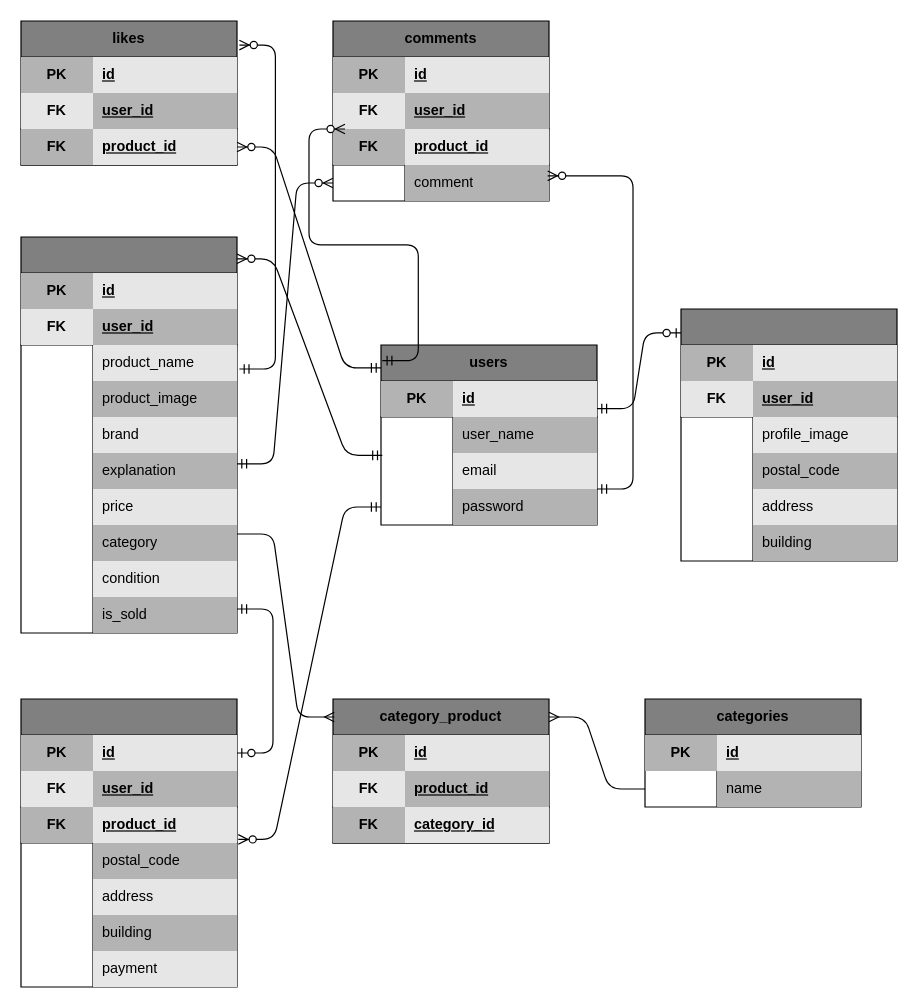
Some shapes in this 918 by 1008 pixel diagram are drawn without their labels. Each missing label, with the box of its shape:
products: (20, 236, 237, 633)
profiles: (680, 308, 897, 561)
purchases: (20, 698, 237, 987)
